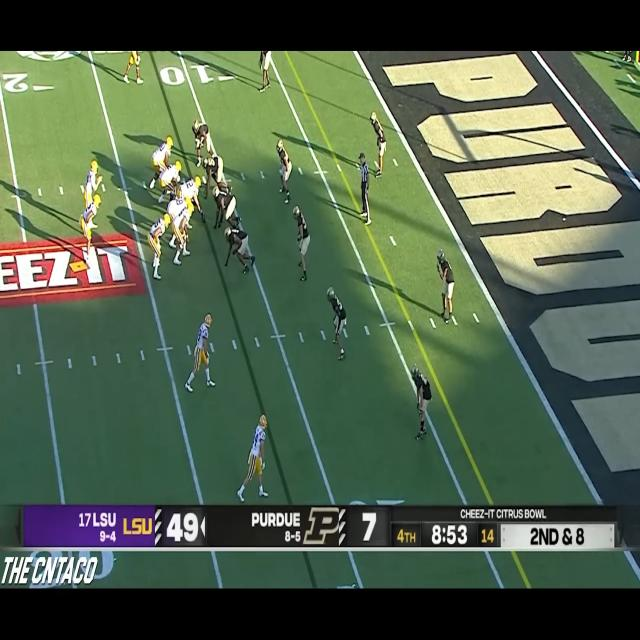players: (236, 412, 273, 504), (184, 312, 219, 394), (434, 249, 461, 330), (325, 287, 350, 365), (412, 365, 436, 446), (292, 207, 314, 285), (77, 197, 101, 266), (222, 224, 255, 273), (149, 135, 176, 194), (212, 183, 242, 234), (272, 137, 294, 203), (166, 200, 192, 253), (170, 217, 194, 271), (148, 215, 167, 282), (191, 120, 214, 172), (178, 175, 204, 219), (204, 154, 228, 200), (372, 113, 388, 175), (82, 160, 100, 214), (158, 163, 184, 199)
